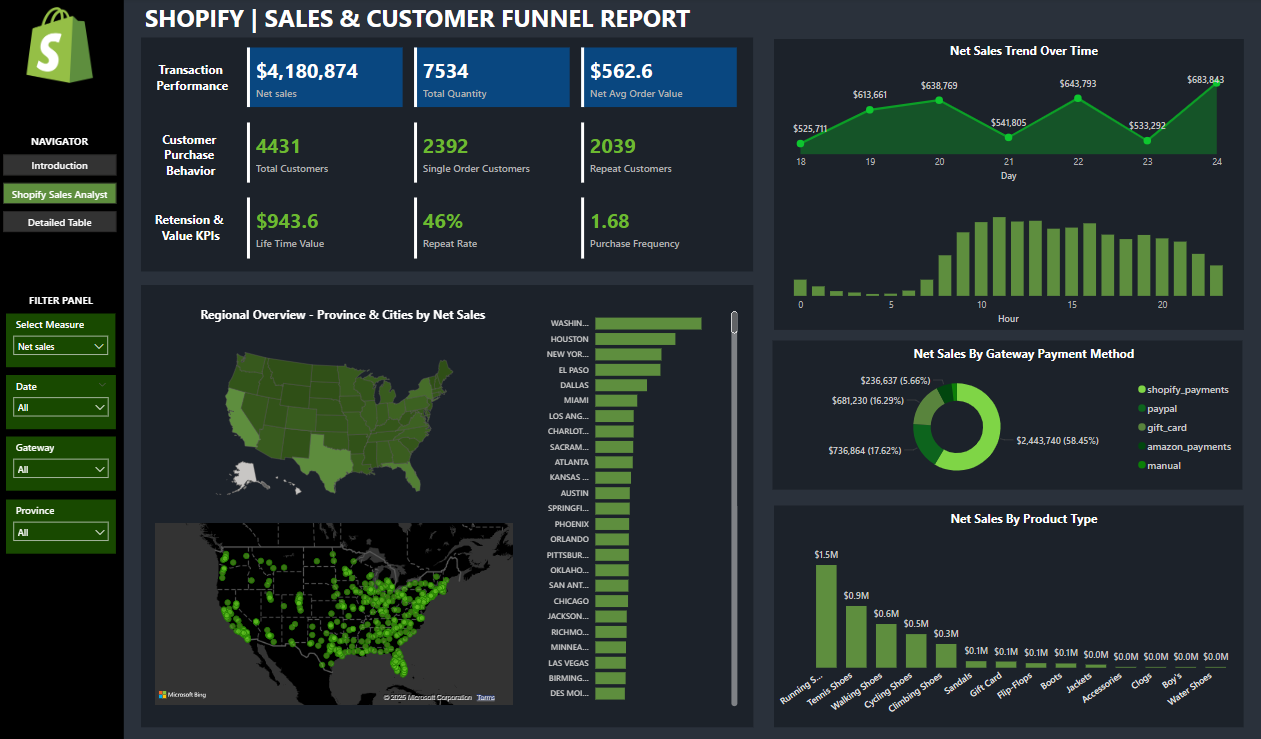

This screenshot's page, from the dashboard's own definition file:
{"tool":"powerbi","page":{"name":"Shopify Sales Analyst","canvas":[1700,1000],"ordinal":0},"visuals":[{"type":"shape","box":[0,0,170,999],"z":0},{"type":"textbox","box":[193.3,0,753,55.2],"z":1000},{"type":"shape","box":[193.3,55.2,820.7,313.7],"z":2000},{"type":"cardVisual","fields":{"Data":["shopify_sales.Net sales","shopify_sales.Total Quantity","shopify_sales.Net Avg Order Value"]},"box":[329,63,669,90],"z":3000},{"type":"card","fields":{"Values":["shopify_sales.Transaction Perf"]},"box":[193,63,137,90],"z":4000},{"type":"cardVisual","fields":{"Data":["shopify_sales.Total Cus","shopify_sales.Single Order Cus","shopify_sales.Repeat Cus"]},"box":[329,162.5,669,91],"z":5000},{"type":"card","fields":{"Values":["shopify_sales.Customer Purchase Behavior"]},"box":[192,163,137,91],"z":6000},{"type":"cardVisual","fields":{"Data":["shopify_sales.Life Time Value","shopify_sales.Repeat Rate","shopify_sales.Purchase Frequency"]},"box":[329,263,668,92],"z":7000},{"type":"card","fields":{"Values":["shopify_sales.Retention"]},"box":[192,264,137,90],"z":8000},{"type":"shape","box":[193,387,821,593],"z":9000},{"type":"map","fields":{"Category":["shopify_sales.Correct Location"]},"box":[207.5,700,490,255],"z":10000},{"type":"slicer","fields":{"Values":["Select Major.Select Major"]},"box":[12.7,423.6,146.4,71.8],"z":11000},{"type":"shapeMap","fields":{"Value":["shopify_sales.Total Quantity"],"Category":["shopify_sales.Billing Address Province"]},"box":[207.5,460,490,222.5],"z":12000},{"type":"clusteredBarChart","fields":{"Y":["shopify_sales.Total Quantity"],"Category":["shopify_sales.CITY"]},"box":[720,407.5,277.5,547.5],"z":13000},{"type":"card","fields":{"Values":["shopify_sales.Map title"]},"box":[207.5,407.5,512.5,37.5],"z":14000},{"type":"shape","box":[1041.4,55.7,630,390],"z":15000},{"type":"areaChart","fields":{"Y":["shopify_sales.Total Quantity"],"Category":["shopify_sales.Invoice Date.Variation.Date Hierarchy.Day"]},"box":[1061.2,92.9,588.6,160],"z":16000},{"type":"columnChart","fields":{"Y":["shopify_sales.Total Quantity"],"Category":["shopify_sales.Hour"]},"box":[1060.8,252.5,587.5,190],"z":17000},{"type":"card","fields":{"Values":["shopify_sales.Trend Title"]},"box":[1150,55,452.5,37.5],"z":18000},{"type":"shape","box":[1040,460,630,200],"z":19000},{"type":"donutChart","fields":{"Y":["shopify_sales.Total Quantity"],"Category":["shopify_sales.Gateway"]},"box":[1040,487.5,630,167.5],"z":20000},{"type":"card","fields":{"Values":["shopify_sales.Gateway title"]},"box":[1150,460,452.5,37.5],"z":21000},{"type":"shape","box":[1042.5,682.5,630,297.5],"z":22000},{"type":"card","fields":{"Values":["shopify_sales.Product Title"]},"box":[1150,682.5,452.5,37.5],"z":23000},{"type":"clusteredColumnChart","fields":{"Y":["shopify_sales.Total Quantity"],"Category":["shopify_sales.Product Type"]},"box":[1042.5,720,627.5,260],"z":24000},{"type":"image","box":[30,7.5,107.5,112.5],"z":25000},{"type":"slicer","fields":{"Values":["shopify_sales.Gateway"]},"box":[11.9,506.1,147.5,72.5],"z":26000},{"type":"slicer","fields":{"Values":["shopify_sales.Billing Address Province"]},"box":[12.7,590,147.3,72.7],"z":27000},{"type":"pageNavigator","box":[9,212,152,105],"z":28000},{"type":"textbox","box":[8.8,178.1,151.2,30],"z":29000},{"type":"textbox","box":[9.4,392.5,151.2,30],"z":29001}]}

Visuals, with their boxes in screenshot pixels (x1, y1, x2, y2), scaled from the page's 1700x1000 canvas onto the 1261x739 screenshot:
shape: box=[0, 0, 126, 738]
textbox: box=[143, 0, 702, 41]
shape: box=[143, 41, 752, 273]
cardVisual - shopify_sales.Net sales x shopify_sales.Total Quantity: box=[244, 47, 740, 113]
card - shopify_sales.Transaction Perf: box=[143, 47, 245, 113]
cardVisual - shopify_sales.Total Cus x shopify_sales.Single Order Cus: box=[244, 120, 740, 187]
card - shopify_sales.Customer Purchase Behavior: box=[142, 120, 244, 188]
cardVisual - shopify_sales.Life Time Value x shopify_sales.Repeat Rate: box=[244, 194, 740, 262]
card - shopify_sales.Retention: box=[142, 195, 244, 262]
shape: box=[143, 286, 752, 724]
map - shopify_sales.Correct Location: box=[154, 517, 517, 706]
slicer - Select Major.Select Major: box=[9, 313, 118, 366]
shapeMap - shopify_sales.Total Quantity x shopify_sales.Billing Address Province: box=[154, 340, 517, 504]
clusteredBarChart - shopify_sales.Total Quantity x shopify_sales.CITY: box=[534, 301, 740, 706]
card - shopify_sales.Map title: box=[154, 301, 534, 329]
shape: box=[772, 41, 1240, 329]
areaChart - shopify_sales.Total Quantity x shopify_sales.Invoice Date.Variation.Date Hierarchy.Day: box=[787, 69, 1224, 187]
columnChart - shopify_sales.Total Quantity x shopify_sales.Hour: box=[787, 187, 1223, 327]
card - shopify_sales.Trend Title: box=[853, 41, 1189, 68]
shape: box=[771, 340, 1239, 488]
donutChart - shopify_sales.Total Quantity x shopify_sales.Gateway: box=[771, 360, 1239, 484]
card - shopify_sales.Gateway title: box=[853, 340, 1189, 368]
shape: box=[773, 504, 1241, 724]
card - shopify_sales.Product Title: box=[853, 504, 1189, 532]
clusteredColumnChart - shopify_sales.Total Quantity x shopify_sales.Product Type: box=[773, 532, 1239, 724]
image: box=[22, 6, 102, 89]
slicer - shopify_sales.Gateway: box=[9, 374, 118, 428]
slicer - shopify_sales.Billing Address Province: box=[9, 436, 119, 490]
pageNavigator: box=[7, 157, 119, 234]
textbox: box=[7, 132, 119, 154]
textbox: box=[7, 290, 119, 312]
